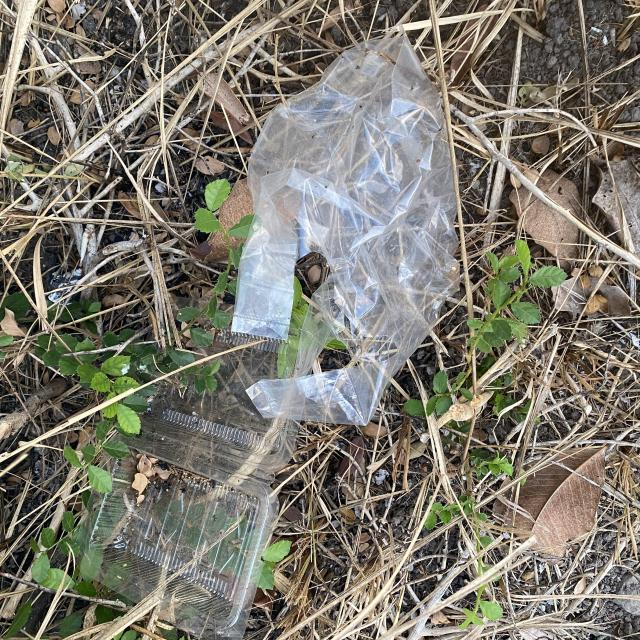Single-layer Plastic: (232, 36, 459, 424)
